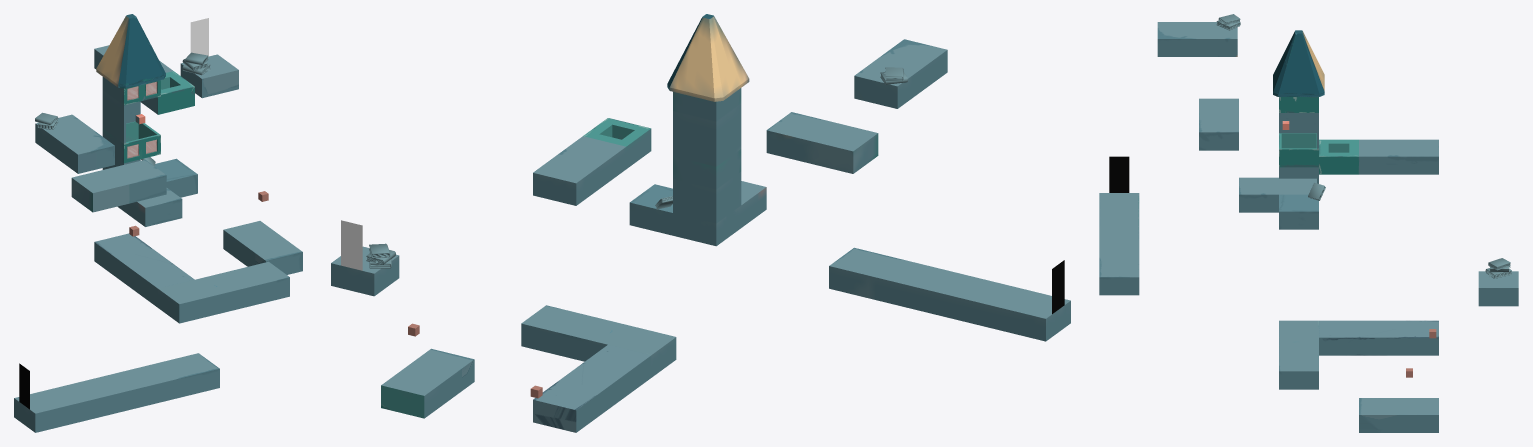
Rendered from Level2_Static_Edits.fbx.
3 renders of one model, left to right at view 1: azimuth 30°, elevation 25°; view 2: azimuth 150°, elevation 25°; view 3: azimuth 270°, elevation 25°, orthographic. The views are drawn at different scales.
Visible parts, largest first — view 1: StaticPiece, MovingPieceIDKwhatthisis, Exit, Entrance; view 2: StaticPiece, MovingPieceIDKwhatthisis, Exit; view 3: StaticPiece, MovingPieceIDKwhatthisis, Entrance.
Boxes of the visible parts, <box> form: StaticPiece: <box>14,14,302,432</box>; MovingPieceIDKwhatthisis: <box>94,233,194,307</box>; Exit: <box>190,18,208,56</box>; Entrance: <box>19,363,29,409</box>; StaticPiece: <box>331,14,1070,418</box>; MovingPieceIDKwhatthisis: <box>533,345,651,432</box>; Exit: <box>341,220,362,270</box>; StaticPiece: <box>1099,14,1518,432</box>; MovingPieceIDKwhatthisis: <box>1319,320,1438,355</box>; Entrance: <box>1109,156,1129,192</box>.
Size of the model in its own units: 22 by 17 by 21.
Materials: 5 (2 with a texture image).
